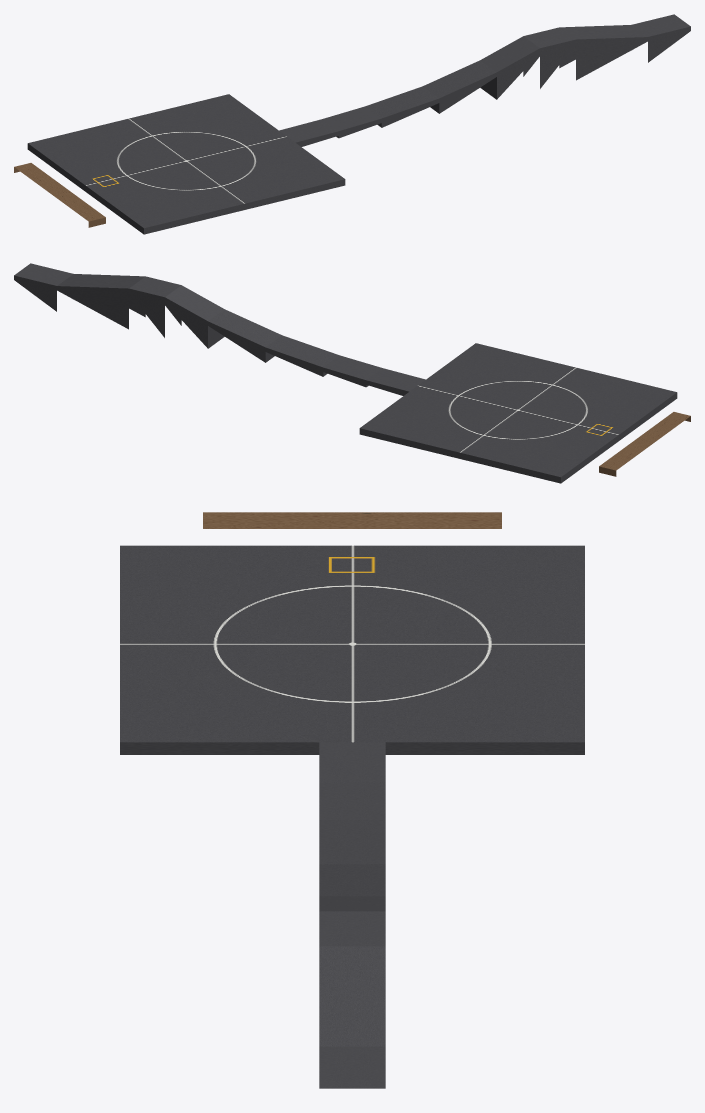
The model's file is testarea.obj.
3 renders of one model, top to bottom at view 1: azimuth 30°, elevation 25°; view 2: azimuth 150°, elevation 25°; view 3: azimuth 270°, elevation 25°, orthographic. The views are drawn at different scales.
Bounding box in the file's own units: 439 × 27.3 × 140.
Materials: 3 (3 with a texture image).
